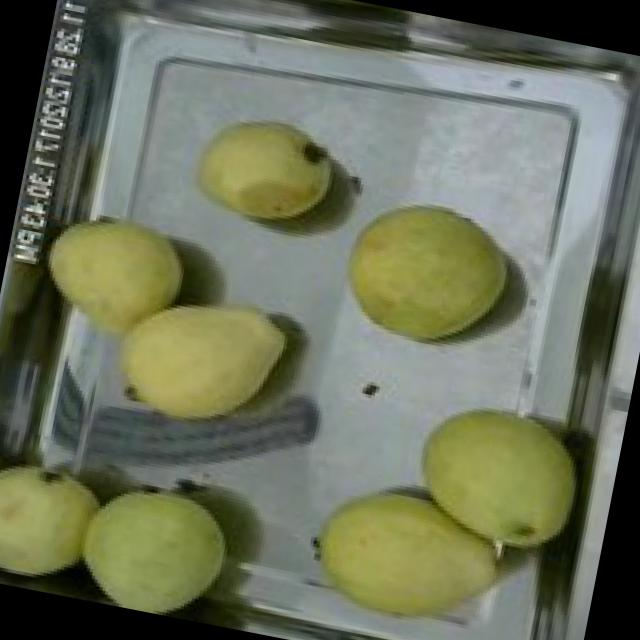Fruit: (84, 264, 308, 468), (280, 458, 520, 640), (394, 382, 598, 576), (324, 183, 523, 367), (55, 453, 252, 628), (15, 195, 204, 376), (178, 101, 350, 243), (0, 434, 132, 604)
